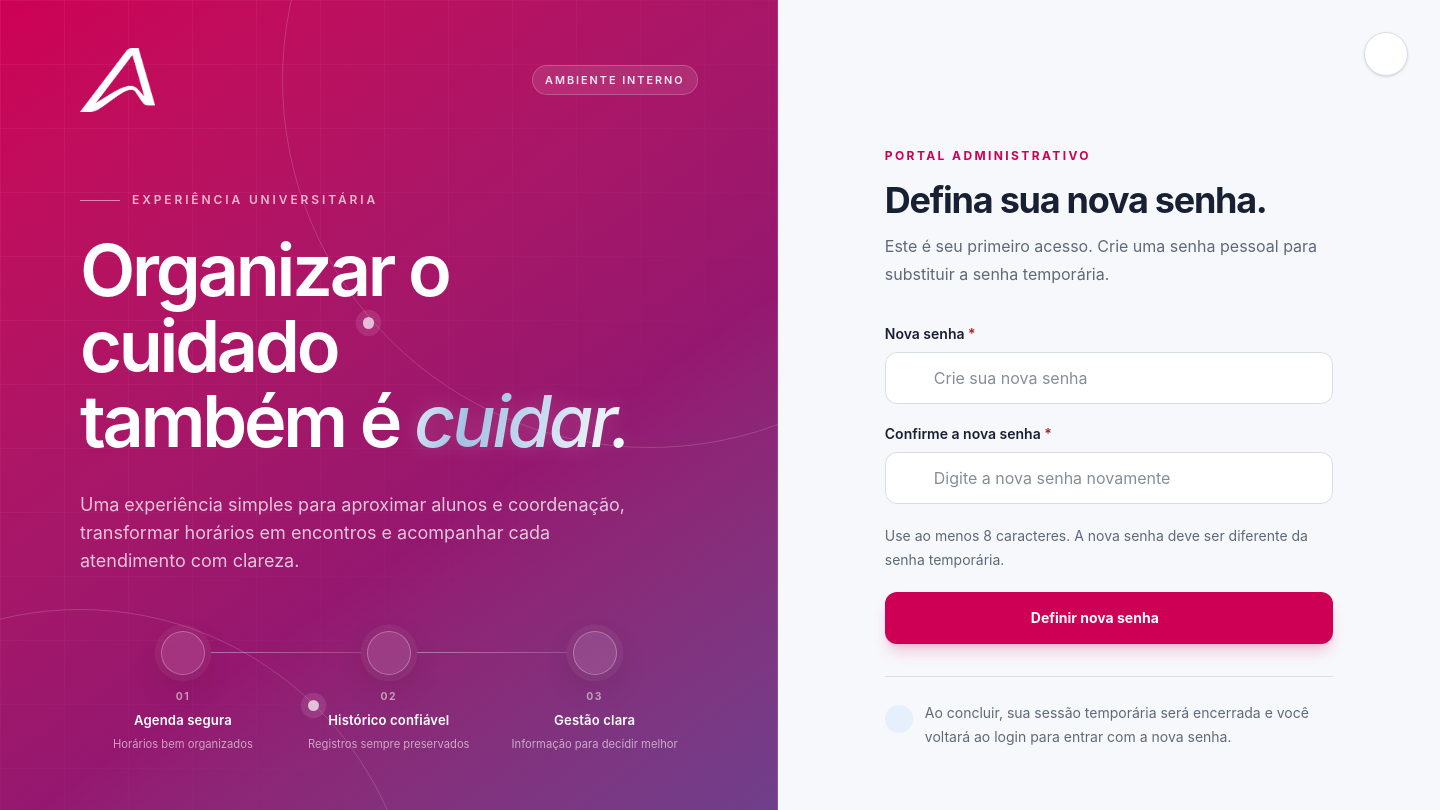
Test case: LoginView › exibe a segunda etapa no primeiro acesso e volta ao login após definir a senha
Expected: the heading "Defina sua nova senha." is shown, [885,180,1333,220]
In the password field named "newPassword": (1109, 378) [885,352,1333,404], type "nova-senha-segura"
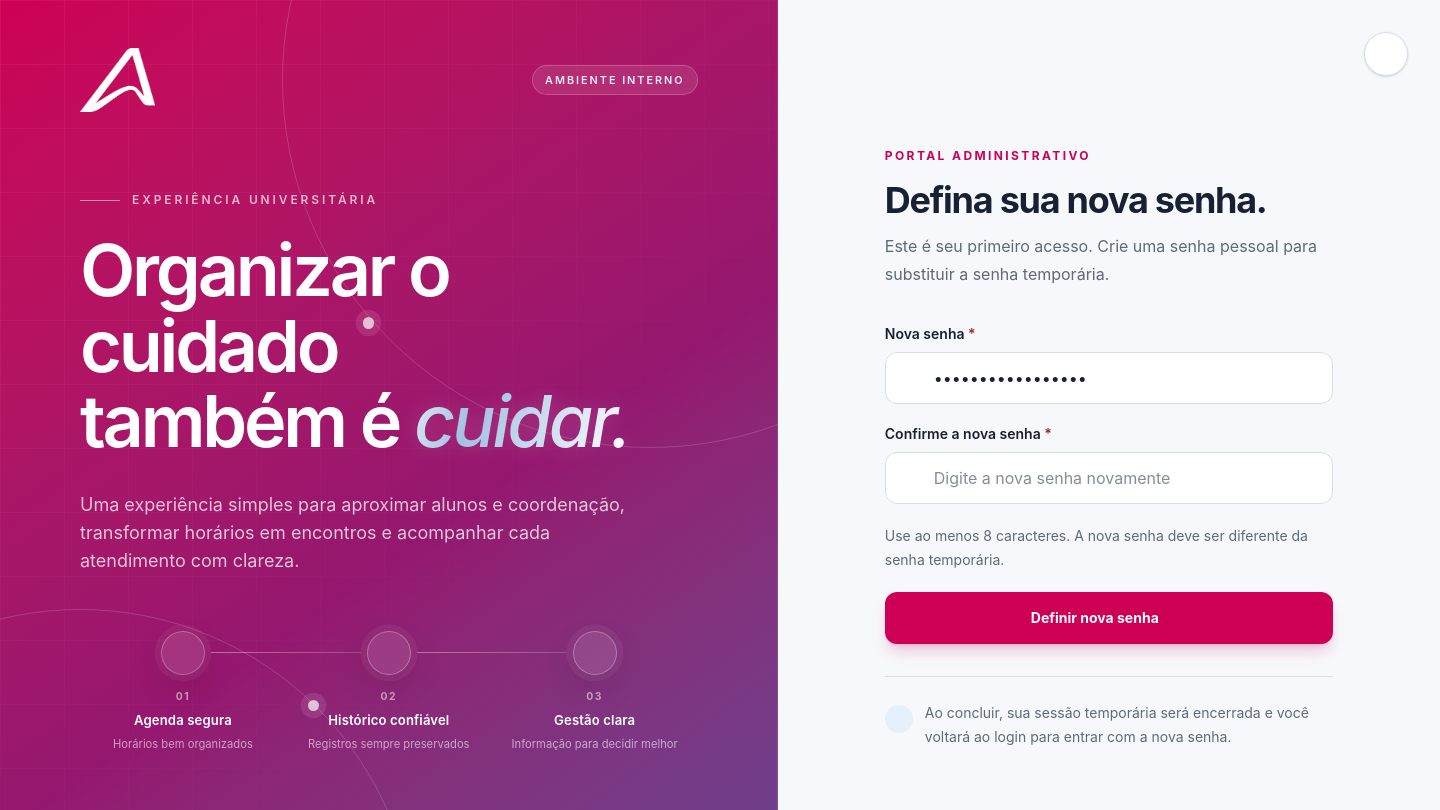
In the password field named "passwordConfirmation": (1109, 478) [885,452,1333,504], type "senha-diferente"
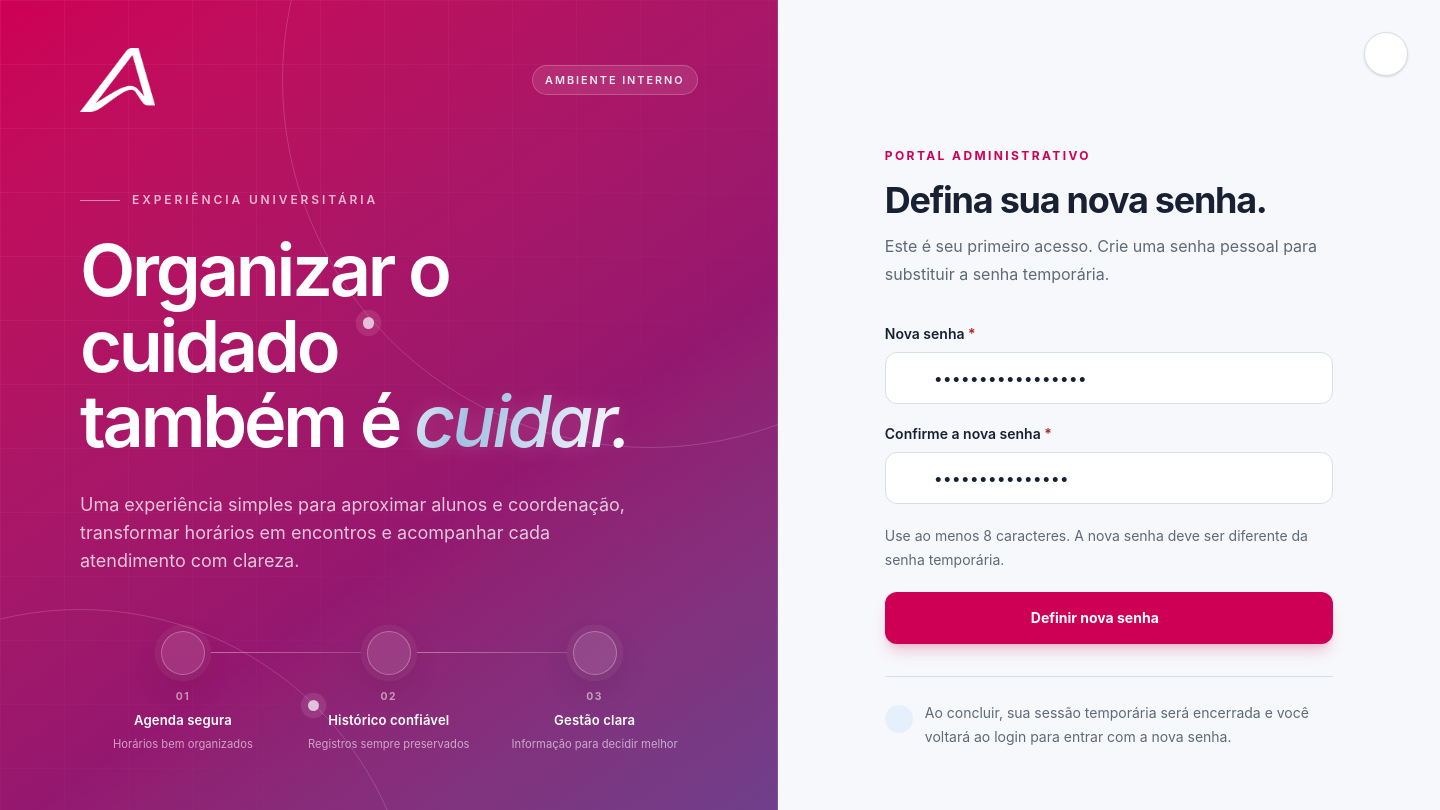
Submit the form with test id "first-access-form", box [885,324,1333,644]
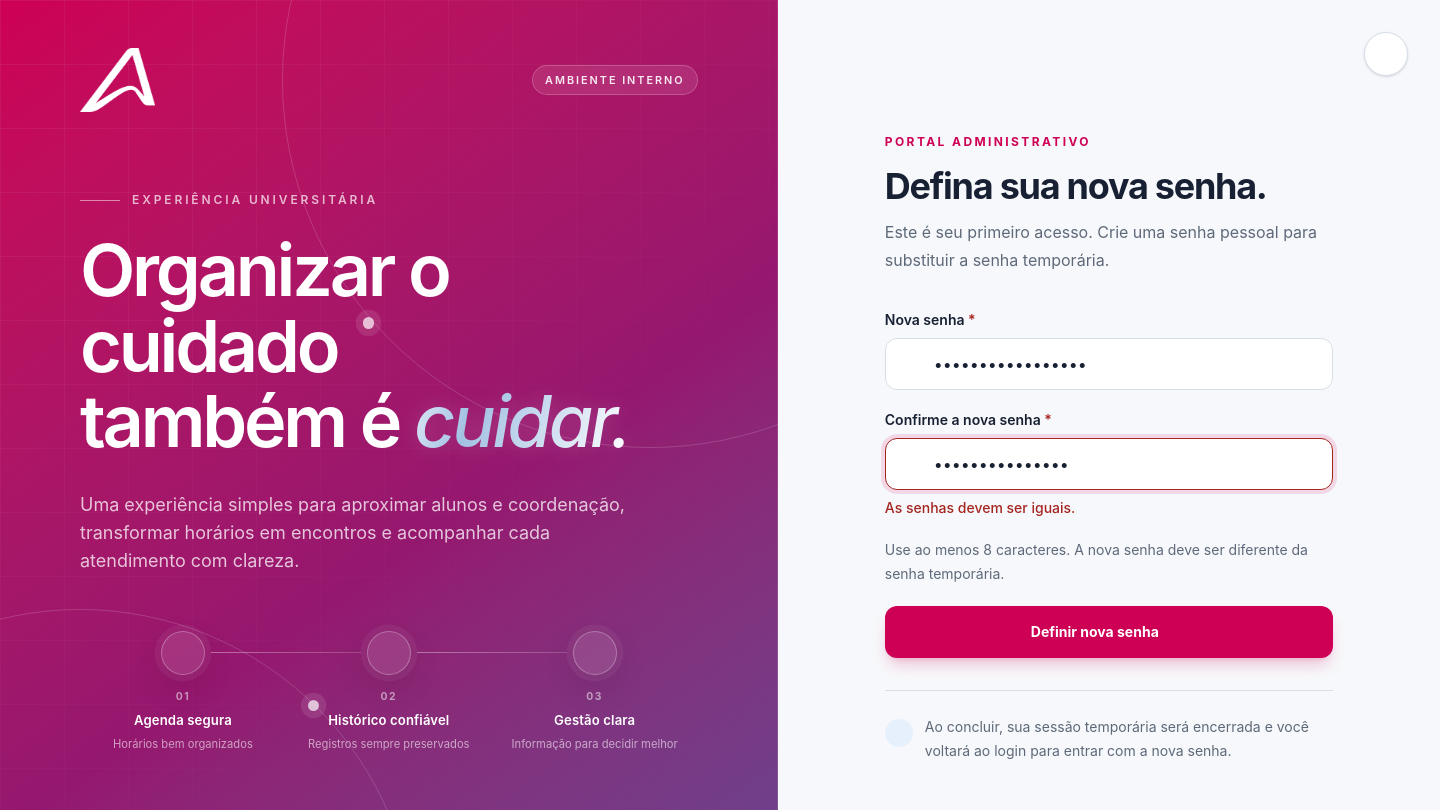
Now the text "As senhas devem ser iguais." is shown, box [885,499,1075,516]
In the password field named "passwordConfirmation": (1109, 464) [885,438,1333,490], type "nova-senha-segura"
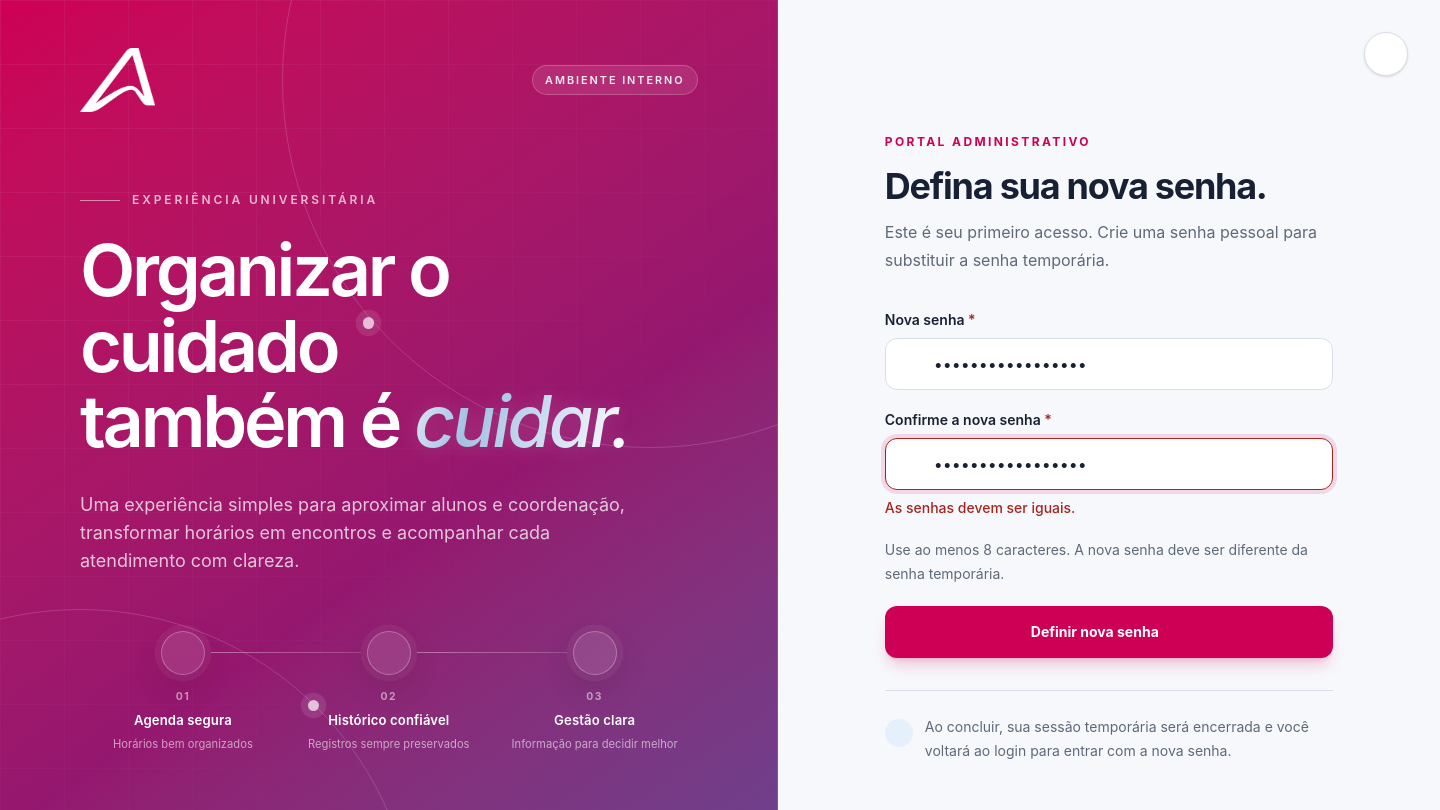
Submit the form with test id "first-access-form", box [885,310,1333,658]
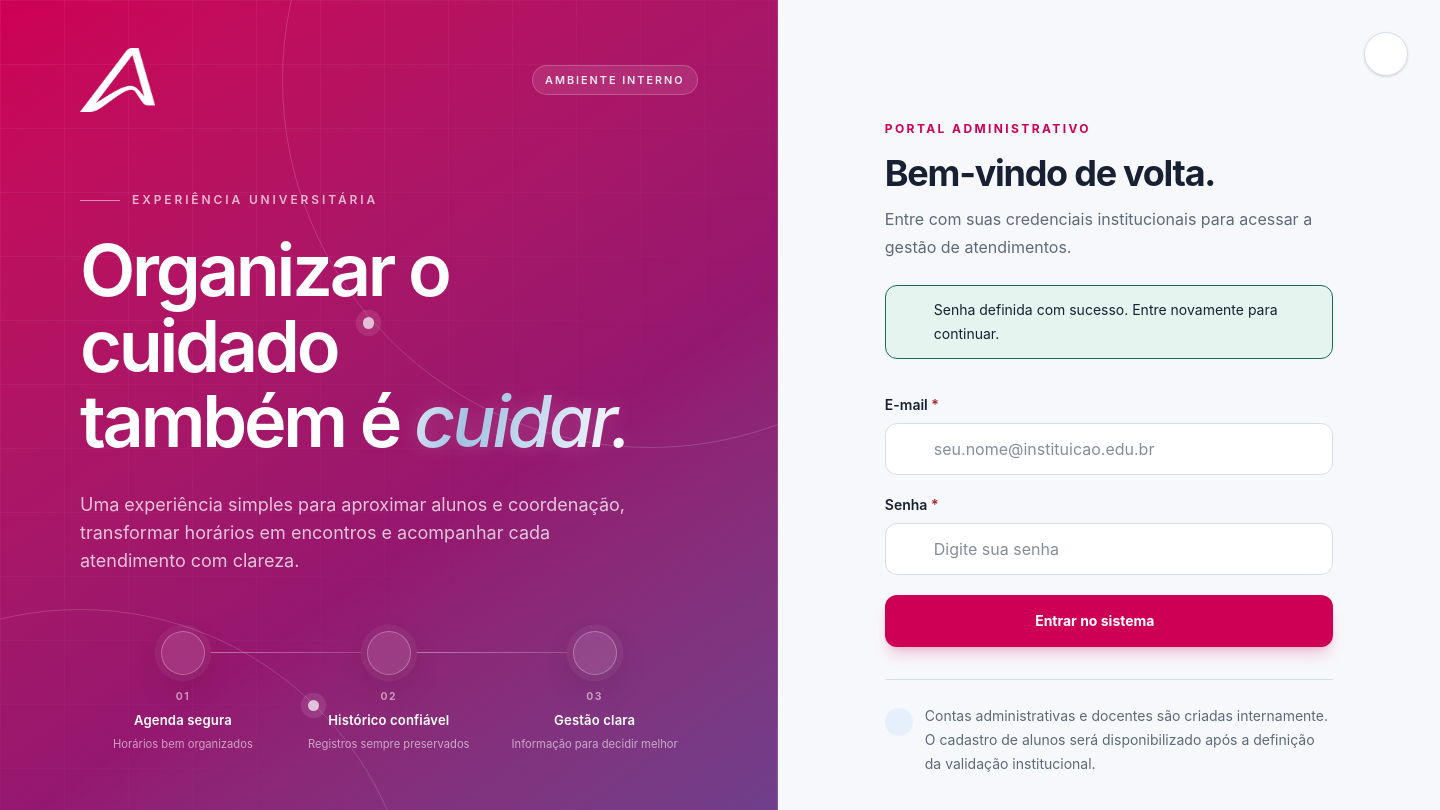
Now the heading "Bem-vindo de volta." is shown, box [885,151,1215,195]
Now the message with test id "login-success" shows "Senha definida com sucesso.", box [934,301,1278,342]
